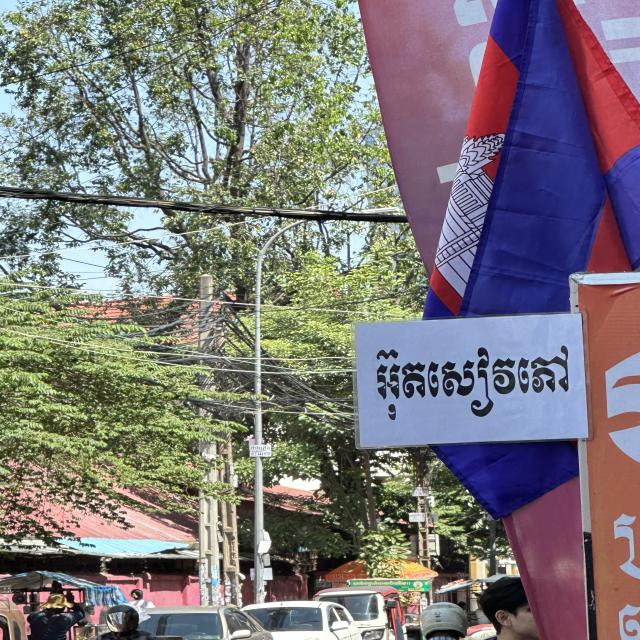Yolov11kh: (360, 334, 581, 424)
